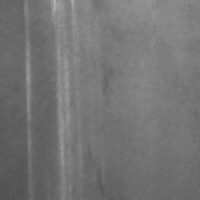scratches: (53, 6, 76, 192), (22, 2, 38, 193)
